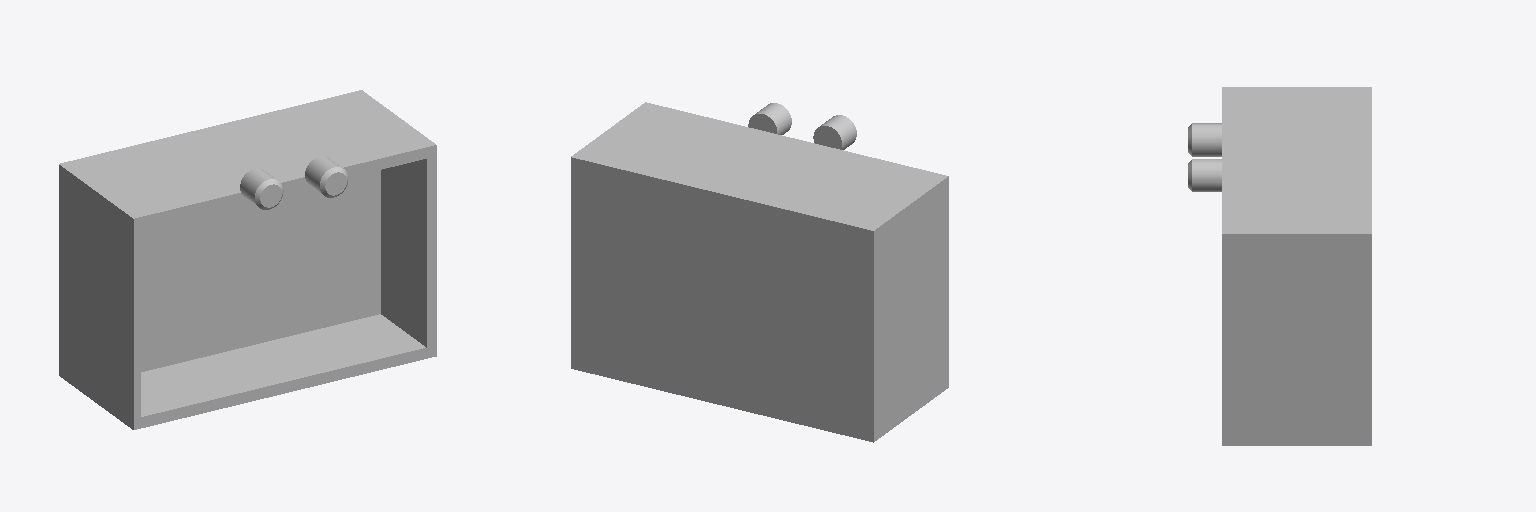
Rendered from sink_rs_gb.obj.
3 renders of one model, left to right at view 1: azimuth 30°, elevation 25°; view 2: azimuth 150°, elevation 25°; view 3: azimuth 270°, elevation 25°, orthographic.
Visible parts, largest first — view 1: ____01, ____02, ____02_(1); view 2: ____01, ____02, ____02_(1); view 3: ____01, ____02, ____02_(1).
Part boxes in pixels (x1,y1,x2,y2): ____01: (59,90,436,429); ____02: (240,168,283,209); ____02_(1): (305,156,347,197); ____01: (571,102,948,442); ____02: (813,115,856,149); ____02_(1): (748,103,791,134); ____01: (1222,87,1371,445); ____02: (1188,123,1221,156); ____02_(1): (1188,159,1221,191).
Bounding box in the file's own units: 0.84 × 0.6144 × 0.44.